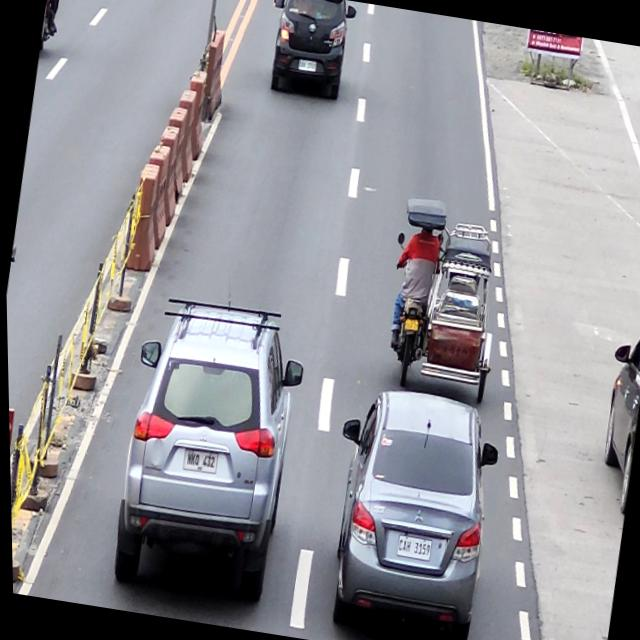Car: (98, 290, 313, 612), (309, 383, 507, 640), (587, 318, 640, 515), (259, 0, 359, 103)
License-Plate: (392, 534, 431, 562), (182, 450, 216, 473), (297, 59, 317, 73), (401, 317, 419, 331)
Tricycle: (372, 192, 516, 404)
